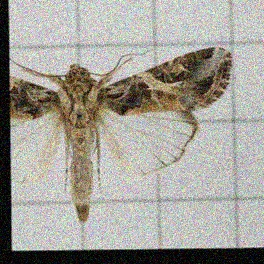Spodoptera litura: (10, 47, 233, 224)
